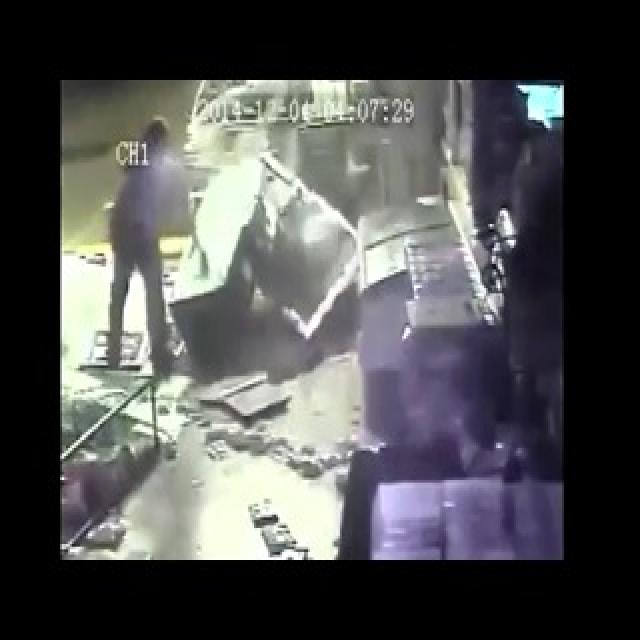thief: (119, 110, 197, 199)
